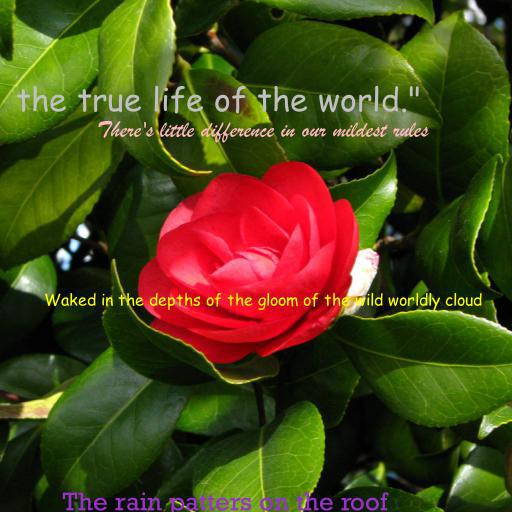Brush Script MT: (96, 120, 428, 143)
Comic Sans MS: (16, 85, 422, 114), (44, 292, 482, 311)
Rockwell: (62, 492, 388, 512)
